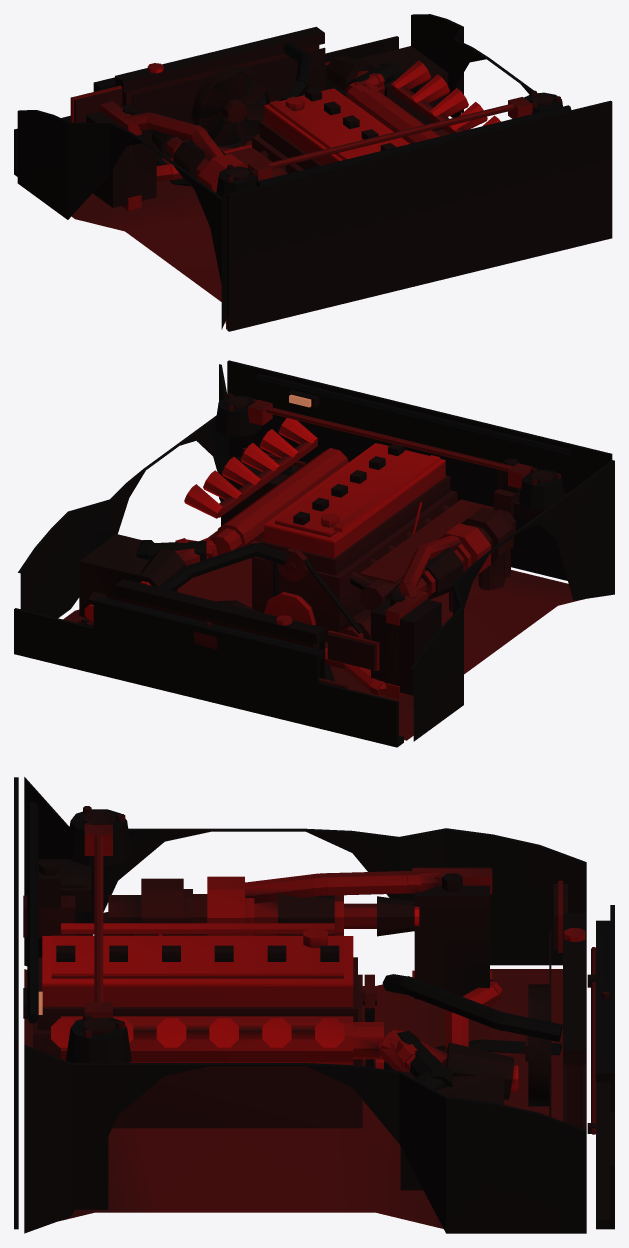
Rendered from bay.glb.
The picture shows the model from 3 angles, top to bottom: view 1: azimuth 30°, elevation 25°; view 2: azimuth 150°, elevation 25°; view 3: azimuth 270°, elevation 25°; orthographic projection. The views are drawn at different scales.
Parts seen in each view (by area): view 1: bay_firewall, bay_wall_l, bay_shroud, bay_floor, engine, bay_radiator, bay_wall_r, bay_washer, bay_mod_itb, bay_mod_tier2_cover, bay_mod_strut_bar, bay_airbox (+14 smaller); view 2: bay_rad_support, engine, bay_firewall, bay_wall_l, bay_floor, bay_wall_r, bay_mod_itb, bay_radiator, bay_mod_tier2_cover, bay_washer, bay_mod_tb_turbo, bay_airbox (+18 smaller); view 3: bay_wall_r, engine, bay_floor, bay_wall_l, bay_mod_tier2_cover, bay_washer, bay_mod_tb_turbo, bay_rad_support, bay_radiator, bay_mod_itb, bay_hoses, bay_mod_tt_turbos (+19 smaller).
Boxes of the visible parts, bbox=[...] form: bay_firewall: bbox=[227, 100, 612, 331]; bay_wall_l: bbox=[17, 110, 227, 329]; bay_shroud: bbox=[132, 47, 325, 158]; bay_floor: bbox=[71, 129, 449, 329]; engine: bbox=[225, 84, 440, 177]; bay_radiator: bbox=[115, 26, 324, 105]; bay_wall_r: bbox=[411, 14, 611, 117]; bay_washer: bbox=[86, 104, 156, 207]; bay_mod_itb: bbox=[391, 60, 500, 133]; bay_mod_tier2_cover: bbox=[280, 89, 406, 156]; bay_mod_strut_bar: bbox=[248, 97, 532, 180]; bay_airbox: bbox=[347, 46, 448, 131]; bay_rad_support: bbox=[14, 596, 403, 747]; engine: bbox=[210, 444, 493, 642]; bay_firewall: bbox=[227, 360, 612, 580]; bay_wall_l: bbox=[411, 460, 614, 741]; bay_floor: bbox=[63, 531, 584, 740]; bay_wall_r: bbox=[18, 364, 229, 618]; bay_mod_itb: bbox=[184, 418, 318, 518]; bay_radiator: bbox=[115, 579, 324, 649]; bay_mod_tier2_cover: bbox=[275, 443, 429, 535]; bay_washer: bbox=[371, 592, 441, 695]; bay_mod_tb_turbo: bbox=[425, 507, 513, 599]; bay_airbox: bbox=[79, 534, 206, 617]; bay_wall_r: bbox=[24, 1044, 586, 1233]; engine: bbox=[33, 928, 383, 1128]; bay_floor: bbox=[24, 969, 562, 1228]; bay_wall_l: bbox=[24, 777, 586, 966]; bay_mod_tier2_cover: bbox=[51, 935, 343, 975]; bay_washer: bbox=[414, 866, 489, 999]; bay_mod_tb_turbo: bbox=[129, 876, 334, 935]; bay_rad_support: bbox=[596, 905, 614, 1229]; bay_radiator: bbox=[563, 912, 586, 1129]; bay_mod_itb: bbox=[51, 1018, 344, 1047]; bay_hoses: bbox=[382, 974, 562, 1070]; bay_mod_tt_turbos: bbox=[103, 894, 419, 936].
Size of the model in its own units: 1.36 by 0.472 by 1.28.
